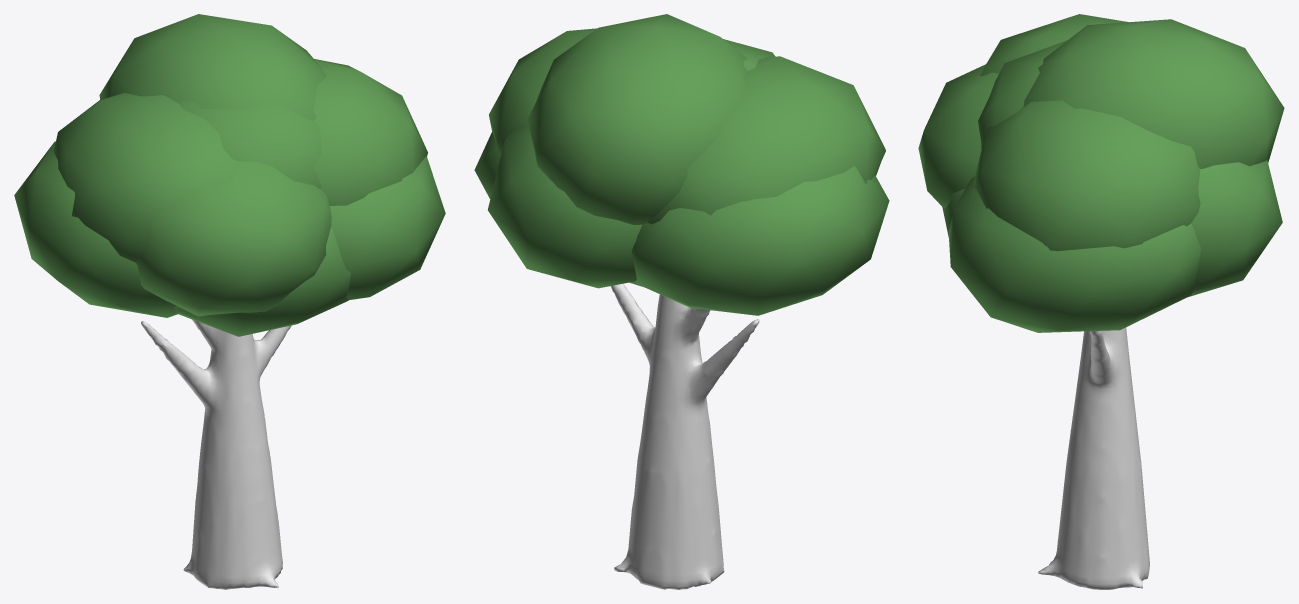
File: NaturalTree_09_Mature.fbx
The picture shows the model from 3 angles, left to right: view 1: azimuth 30°, elevation 25°; view 2: azimuth 150°, elevation 25°; view 3: azimuth 270°, elevation 25°; orthographic projection. The views are drawn at different scales.
Parts seen in each view (by area): view 1: Foliage_03.008, Trunk.008, Foliage_01.008, Foliage_08.001, Foliage_02.008, Foliage_05.008, Foliage_06.008, Foliage_00.008, Foliage_07.007; view 2: Foliage_08.001, Foliage_05.008, Trunk.008, Foliage_01.008, Foliage_04.008, Foliage_02.008, Foliage_06.008, Foliage_00.008; view 3: Foliage_02.008, Foliage_08.001, Foliage_06.008, Trunk.008, Foliage_04.008, Foliage_03.008, Foliage_00.008, Foliage_01.008.
Part boxes in pixels (<box>): Foliage_03.008: <box>136,161,331,316</box>; Trunk.008: <box>141,319,291,589</box>; Foliage_01.008: <box>53,93,236,262</box>; Foliage_08.001: <box>99,14,326,120</box>; Foliage_02.008: <box>313,59,427,205</box>; Foliage_05.008: <box>14,141,179,317</box>; Foliage_06.008: <box>330,157,445,299</box>; Foliage_00.008: <box>180,100,321,188</box>; Foliage_07.007: <box>174,227,350,336</box>; Foliage_08.001: <box>527,14,747,224</box>; Foliage_05.008: <box>631,166,889,315</box>; Trunk.008: <box>610,283,759,589</box>; Foliage_01.008: <box>647,56,885,224</box>; Foliage_04.008: <box>488,126,642,288</box>; Foliage_02.008: <box>489,28,596,153</box>; Foliage_06.008: <box>474,132,501,198</box>; Foliage_00.008: <box>723,39,775,70</box>; Foliage_02.008: <box>973,100,1200,251</box>; Foliage_08.001: <box>1023,19,1284,168</box>; Foliage_06.008: <box>948,176,1201,332</box>; Trunk.008: <box>1038,327,1149,589</box>; Foliage_04.008: <box>1187,159,1282,297</box>; Foliage_03.008: <box>918,64,998,208</box>; Foliage_00.008: <box>978,40,1067,148</box>; Foliage_01.008: <box>980,14,1128,76</box>.
Bounding box in the file's own units: 2.43 × 3.31 × 2.
